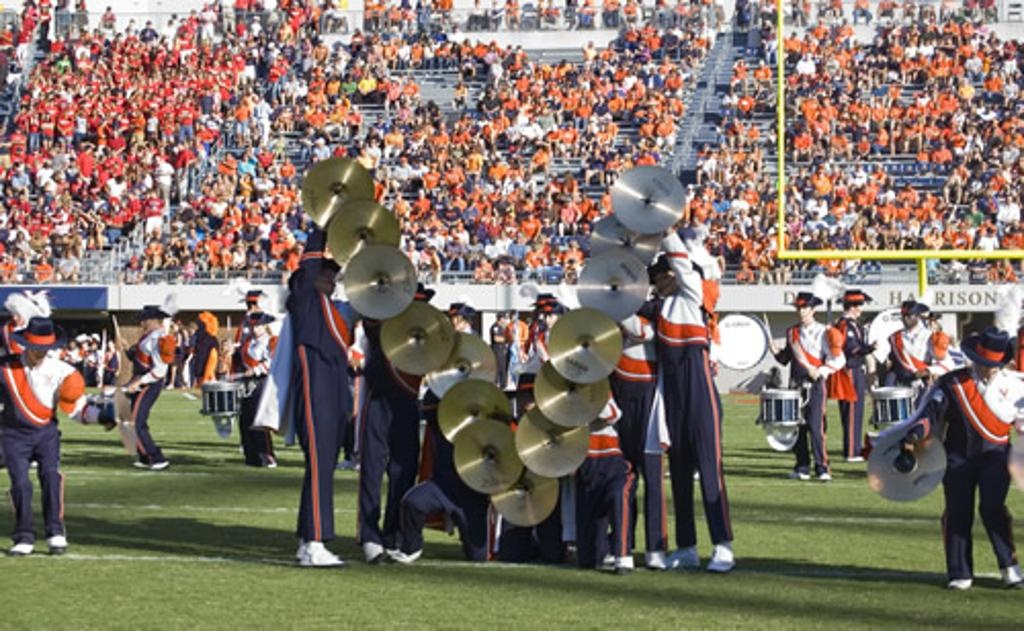human_face: (652, 267, 678, 295), (26, 338, 48, 362), (796, 301, 810, 321), (139, 312, 153, 330), (850, 298, 862, 316), (250, 321, 262, 337), (454, 316, 466, 332), (902, 312, 914, 326), (508, 312, 516, 320), (498, 315, 506, 322)
